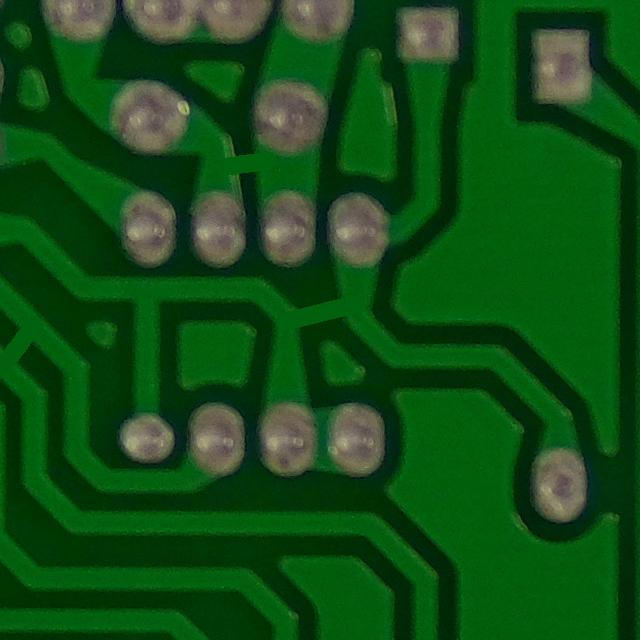short: (256, 280, 385, 361)
